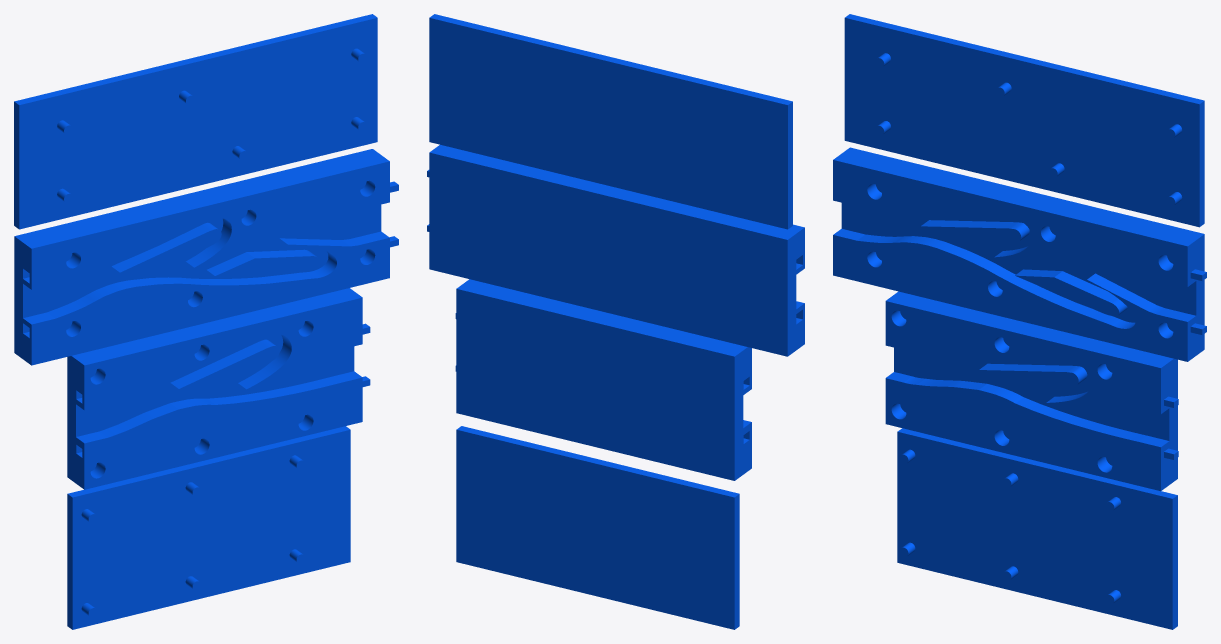
File: tesla valve segmented_1 v230.fbx
The picture shows the model from 3 angles, left to right: view 1: azimuth 30°, elevation 25°; view 2: azimuth 150°, elevation 25°; view 3: azimuth 330°, elevation 25°; orthographic projection.
Parts seen in each view (by area): view 1: 2 segments, 2 segment lid, 1 segments, 1 segment lid; view 2: 2 segments, 2 segment lid, 1 segments, 1 segment lid; view 3: 2 segments, 2 segment lid, 1 segments, 1 segment lid.
Boxes of the visible parts, bbox=[...] form: 2 segments: bbox=[14, 149, 398, 365]; 2 segment lid: bbox=[14, 14, 377, 229]; 1 segments: bbox=[67, 288, 370, 489]; 1 segment lid: bbox=[67, 426, 350, 629]; 2 segments: bbox=[427, 144, 804, 356]; 2 segment lid: bbox=[429, 14, 792, 229]; 1 segments: bbox=[455, 279, 751, 480]; 1 segment lid: bbox=[456, 426, 739, 629]; 2 segments: bbox=[833, 147, 1206, 361]; 2 segment lid: bbox=[844, 14, 1204, 227]; 1 segments: bbox=[885, 291, 1178, 491]; 1 segment lid: bbox=[897, 428, 1177, 629].
Bounding box in the file's own units: 12.47 × 17.29 × 1.
